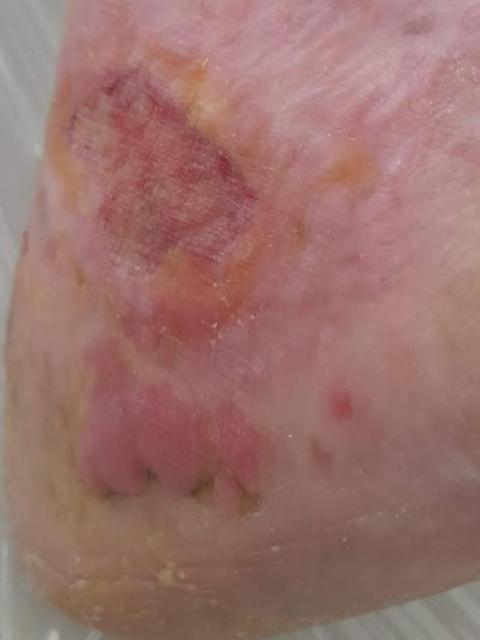wound: (66, 60, 301, 353), (77, 338, 281, 523)
